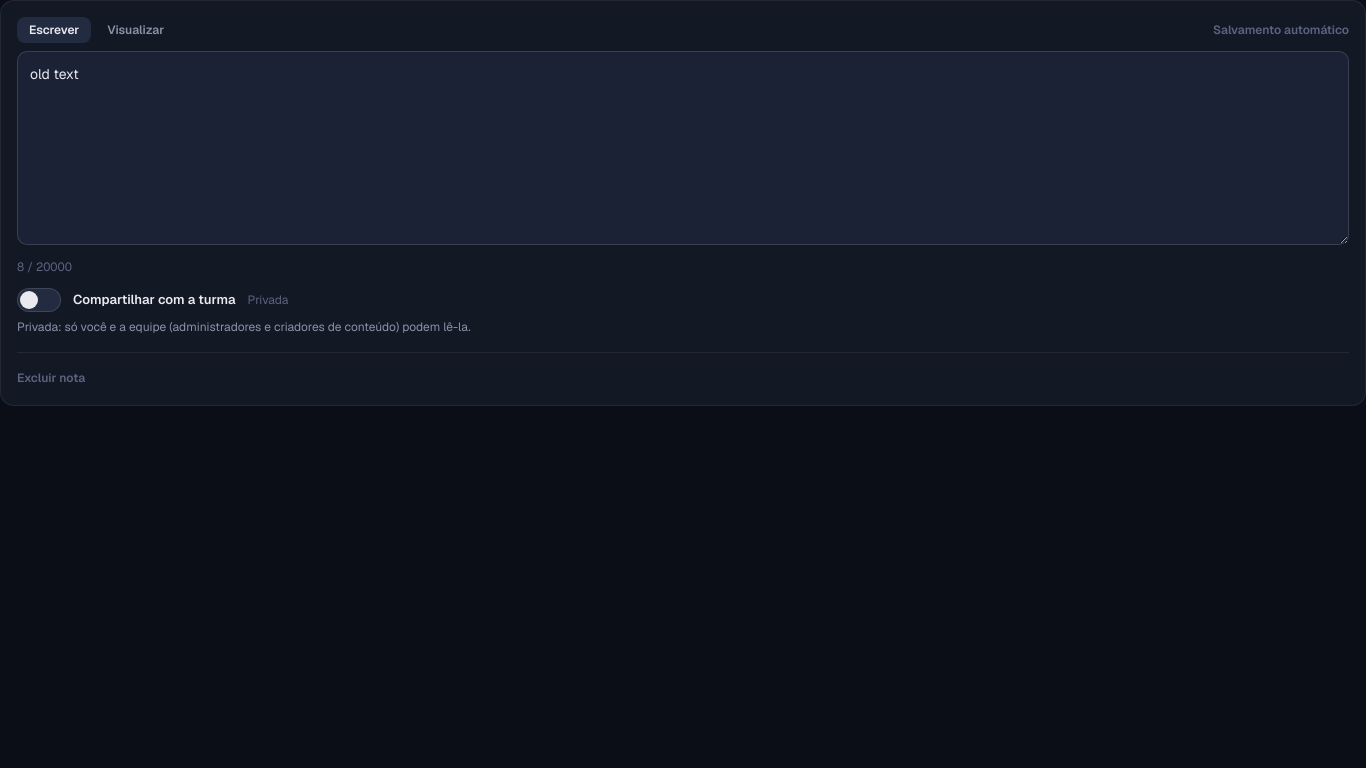
Test: MyNoteEditor › on 409 NOTE_STALE › shows the moderation banner when the stored note is moderated
Replace the text in the text box named "Sua nota sobre este tópico" with "my local text" at (683, 148), box [17,51,1349,245]
Wait 2000 ms
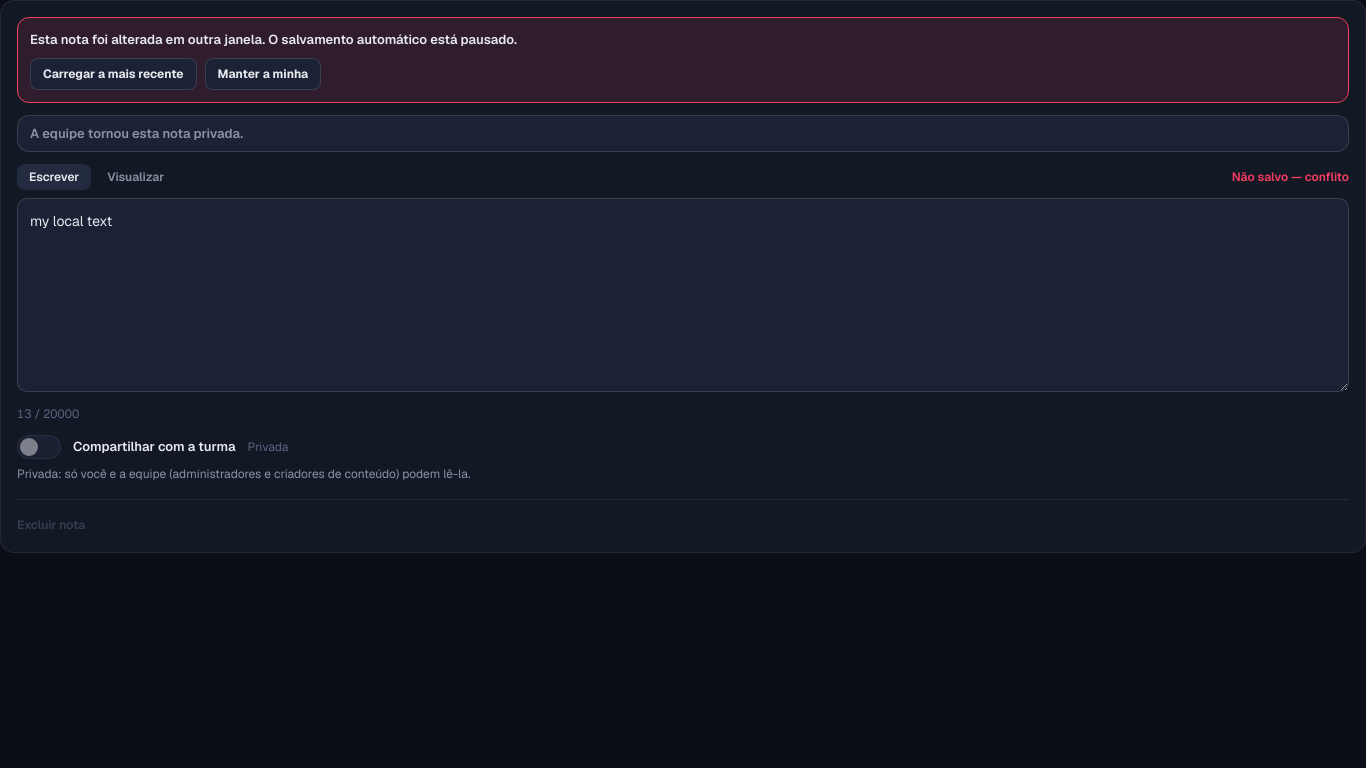
Check: the text "A equipe tornou esta nota privada." is shown, box [17,114,1349,152]
